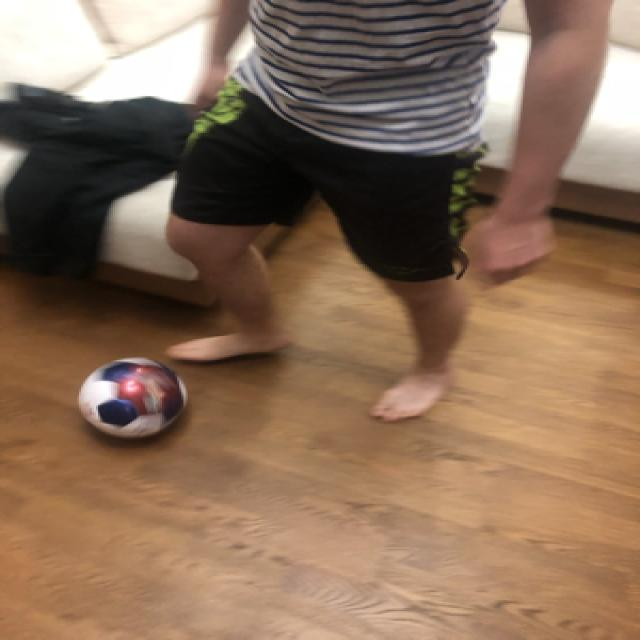soccer_ball: (74, 355, 188, 440)
